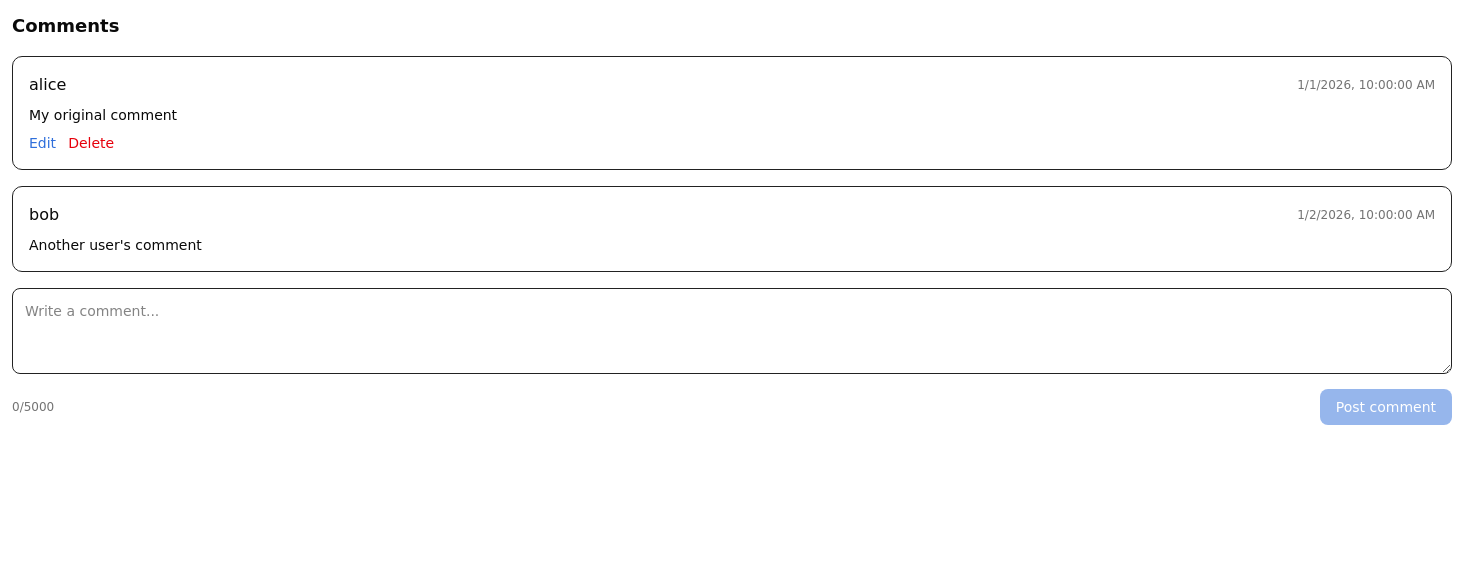
SkillComments › shows an error when editing fails
Expected: the text "My original comment" is shown, [29,107,177,123]
Click the button "Edit": (43, 143) [29,133,56,153]
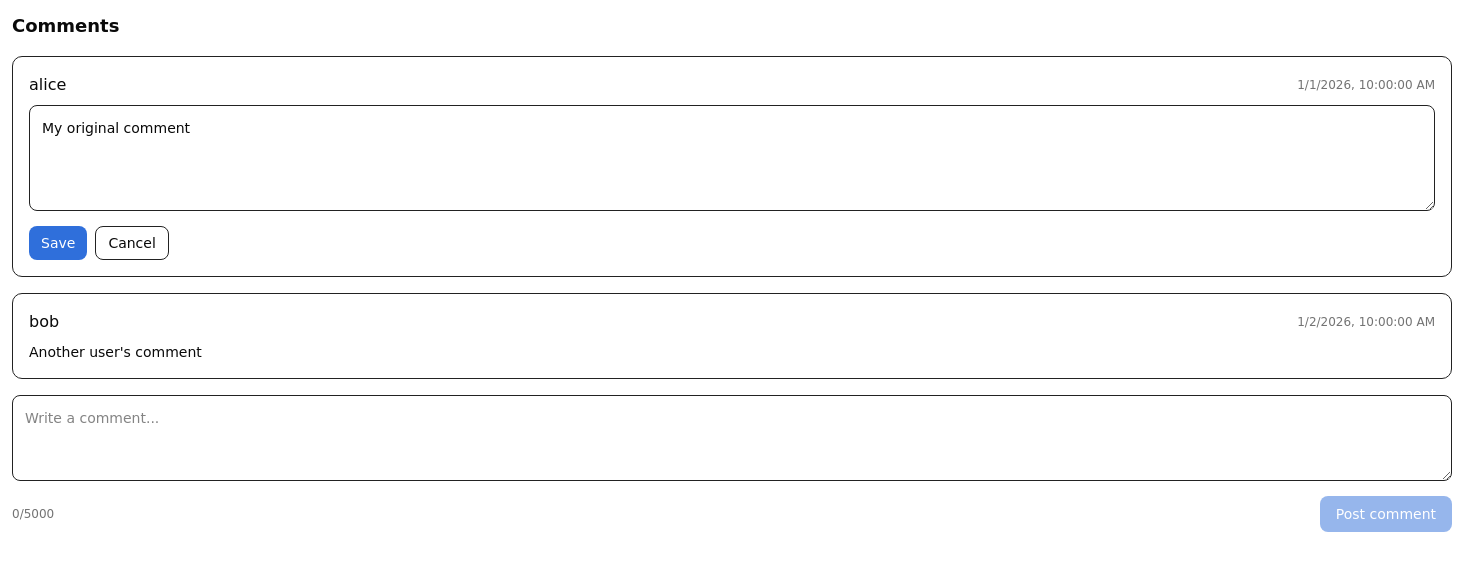
Replace the text in the text box named "Edit comment" with "Failed edit": (732, 158) [29,105,1435,211]
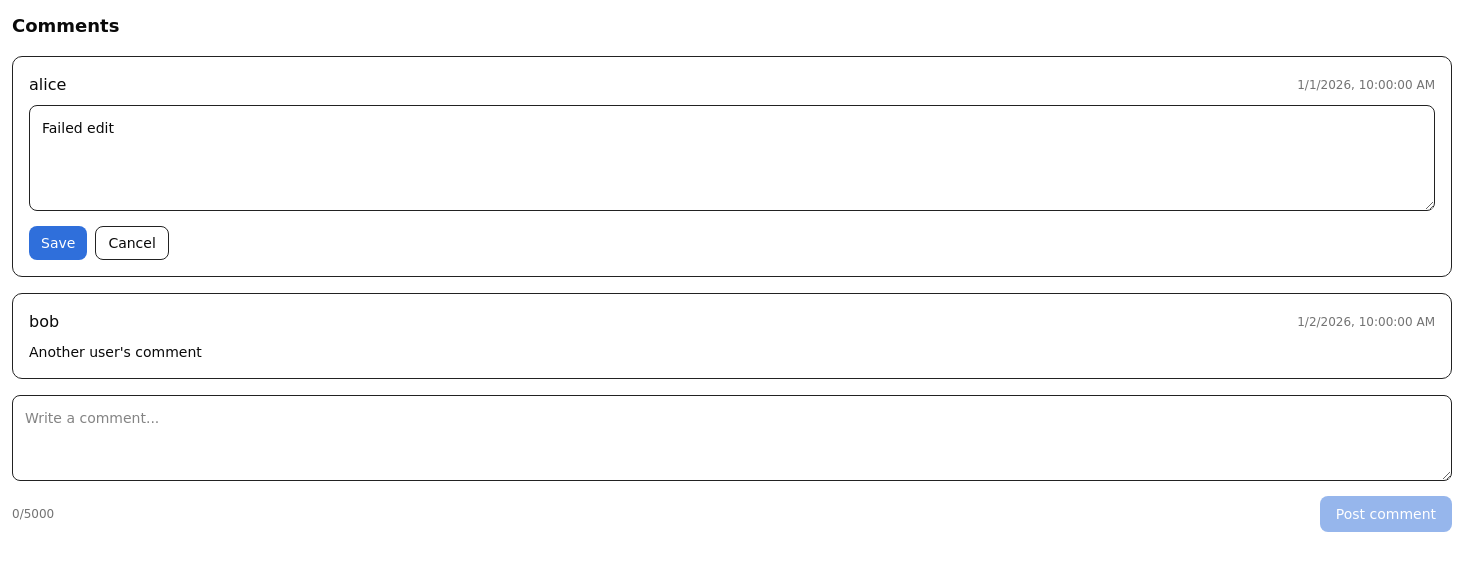
Click the button "Save": (58, 243) [29,226,87,260]
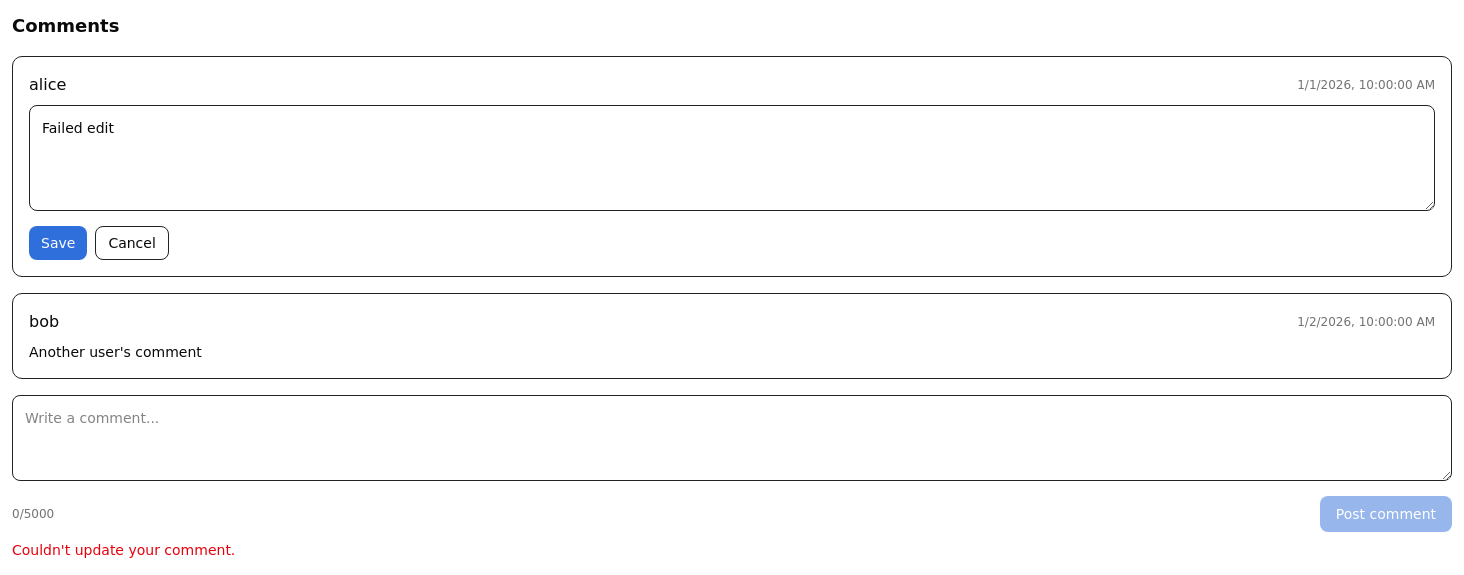
Result: the text "Couldn't update your comment." is shown at [12,542,235,558]
